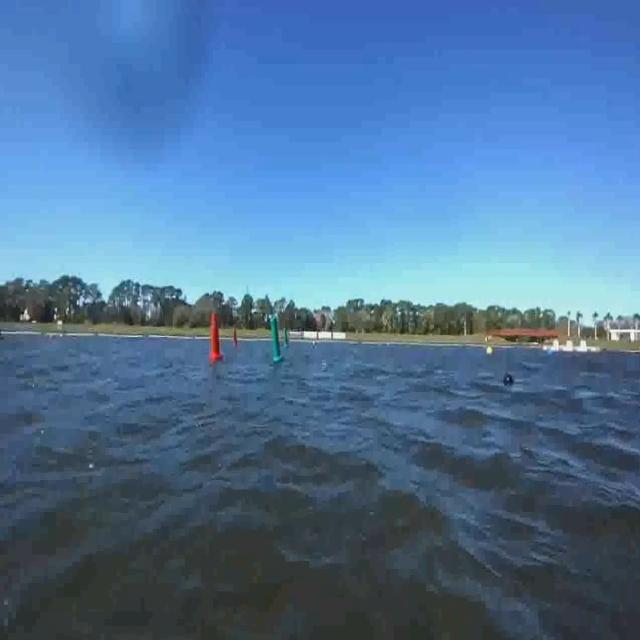black-buoy: (503, 371, 514, 388)
green-column-buoy: (270, 316, 284, 364), (283, 328, 289, 346)
red-column-buoy: (208, 310, 223, 360), (233, 326, 241, 347)
yellow-buoy: (487, 344, 495, 357)
